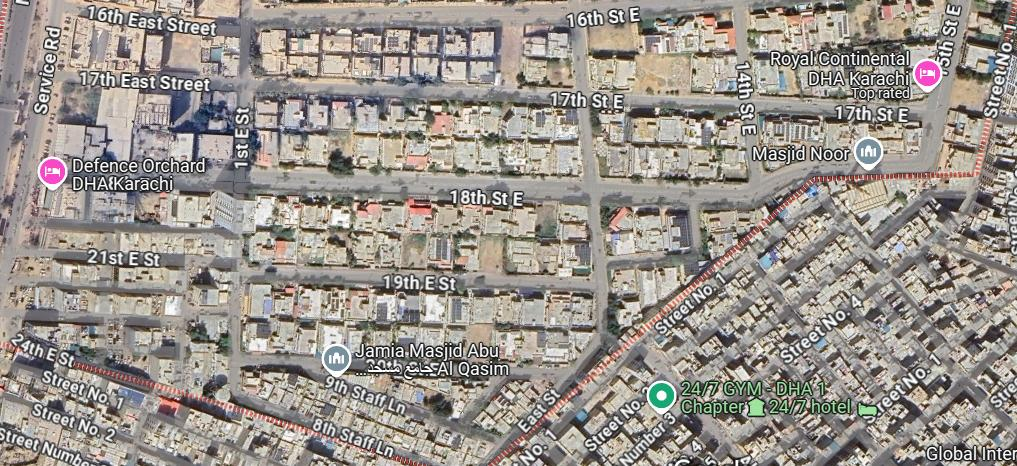Buildings: (240, 283, 597, 362), (251, 98, 586, 178), (253, 199, 595, 274), (244, 367, 498, 466), (251, 26, 577, 86), (753, 0, 946, 95), (50, 87, 237, 171), (28, 324, 226, 402), (584, 9, 743, 96), (54, 13, 242, 79), (591, 109, 750, 184), (759, 113, 921, 175), (49, 194, 250, 236), (602, 204, 694, 260)
